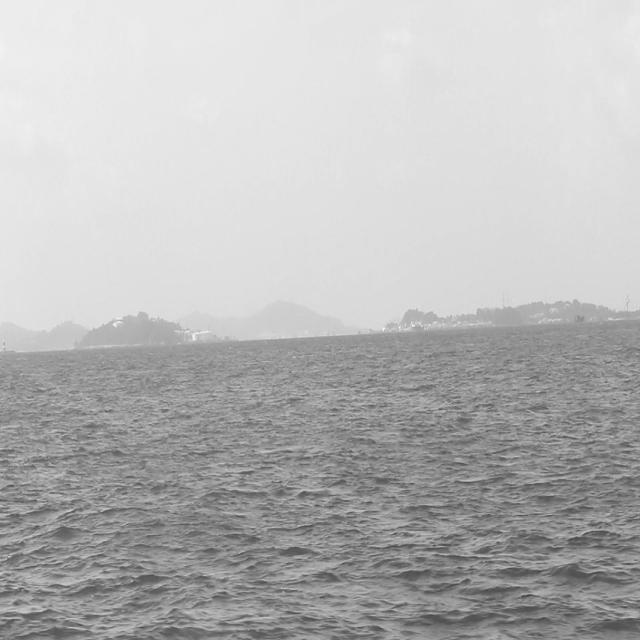buoy: (0, 337, 19, 357)
